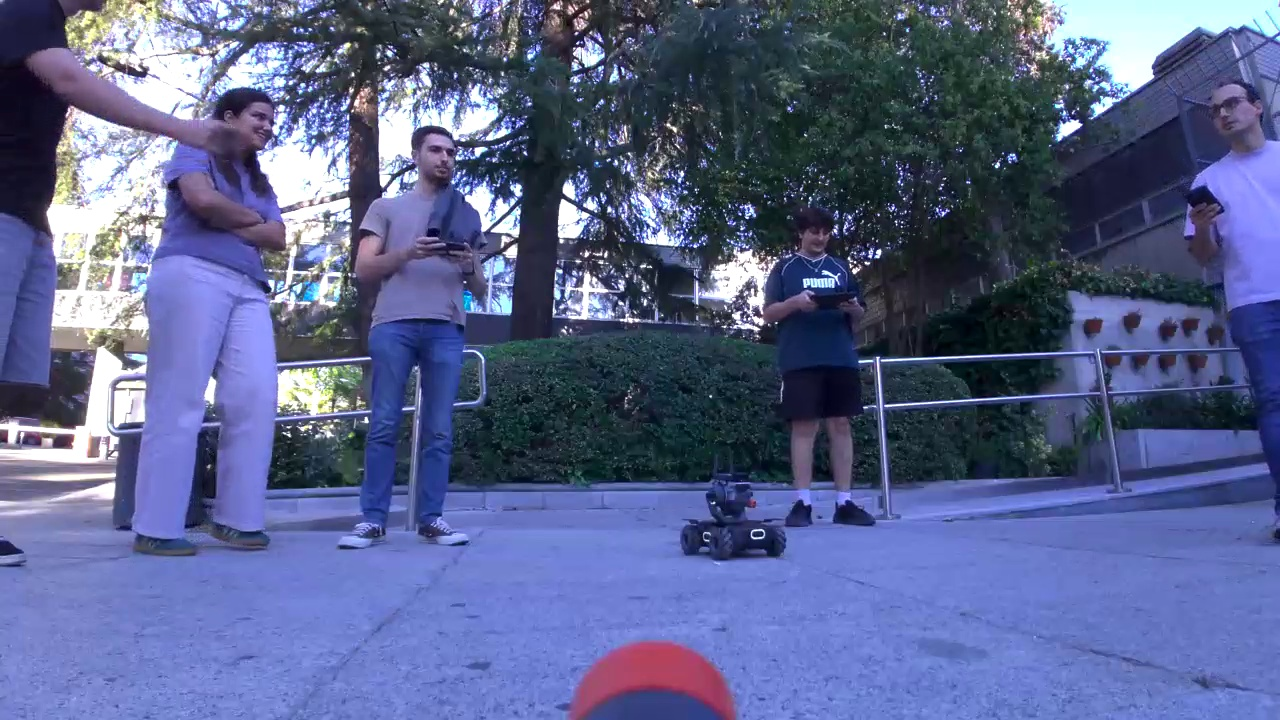robot: (670, 480, 790, 568)
